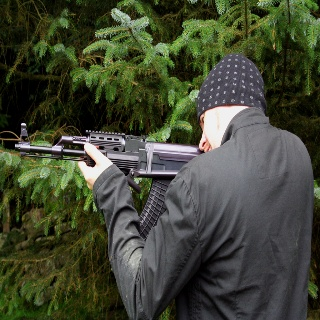rifle: (12, 118, 208, 243)
